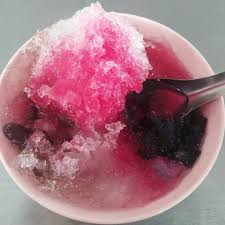O-eo: (1, 7, 224, 225)
